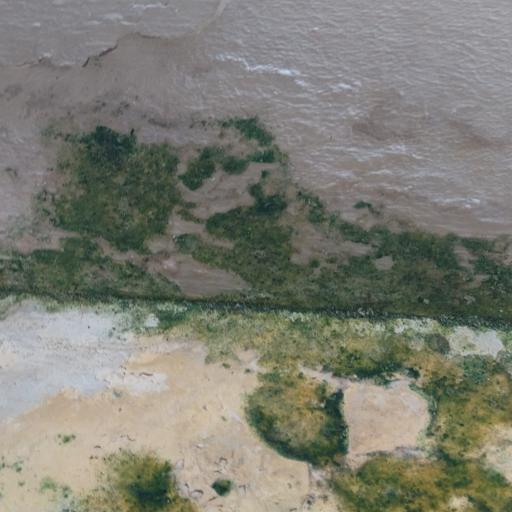algae: (6, 119, 509, 503)
